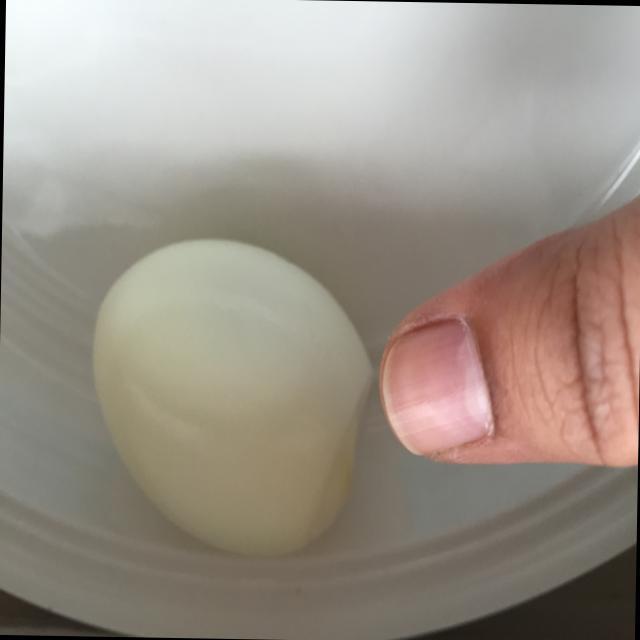Egg: (78, 221, 378, 564)
Finger: (371, 215, 640, 474)
